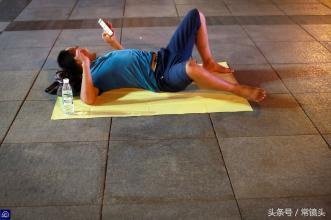Fall-Detected: (49, 3, 272, 104)
